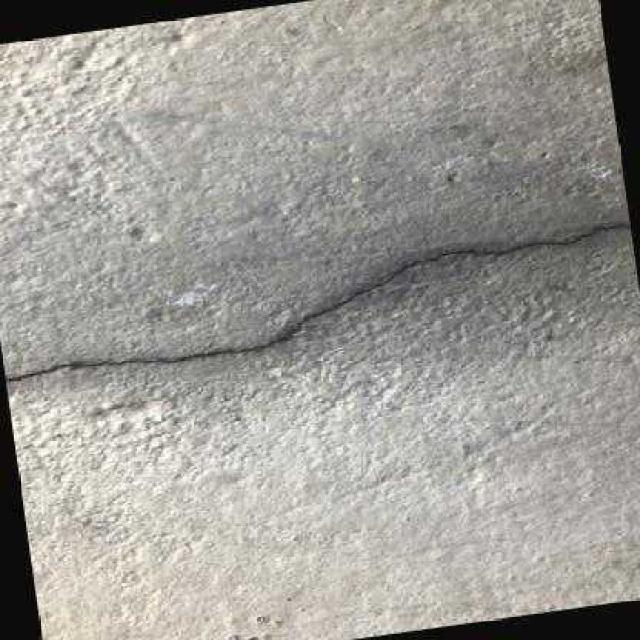D00: (5, 222, 626, 379)
